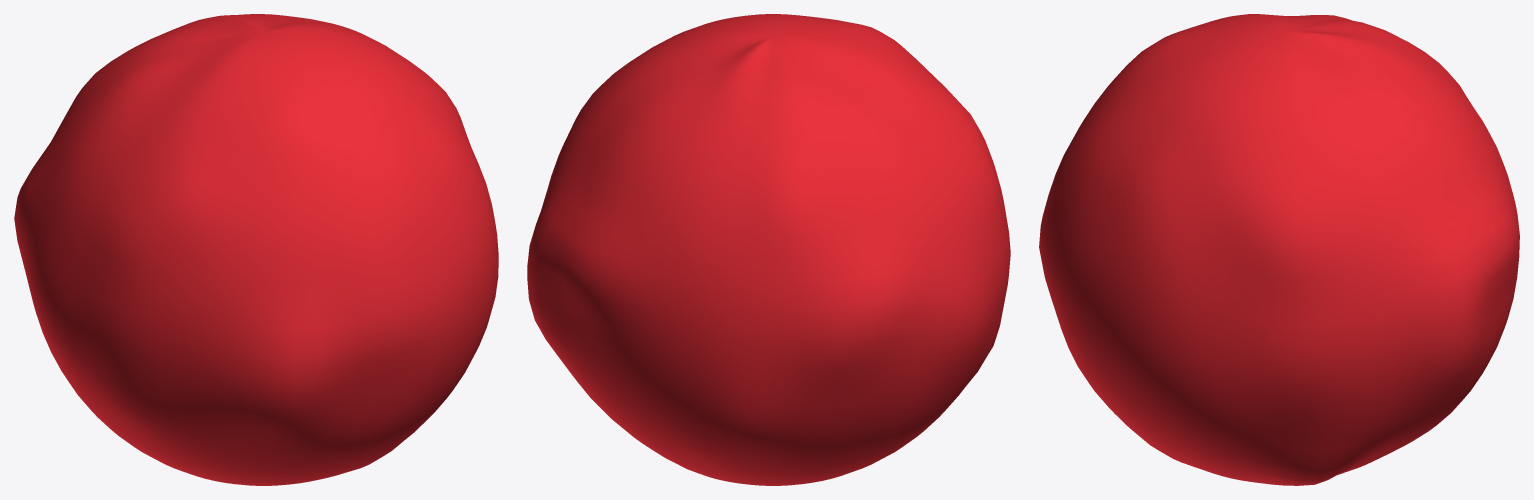
Rendered from waterpok.fbx.
3 renders of one model, left to right at view 1: azimuth 30°, elevation 25°; view 2: azimuth 150°, elevation 25°; view 3: azimuth 270°, elevation 25°, orthographic.
Visible parts, largest first — view 1: Sphere; view 2: Sphere; view 3: Sphere.
Part boxes in pixels (x1,y1,x2,y2): Sphere: (14,14,498,485); Sphere: (527,14,1010,485); Sphere: (1039,14,1519,485).
Bounding box in the file's own units: 199 × 199 × 201.
